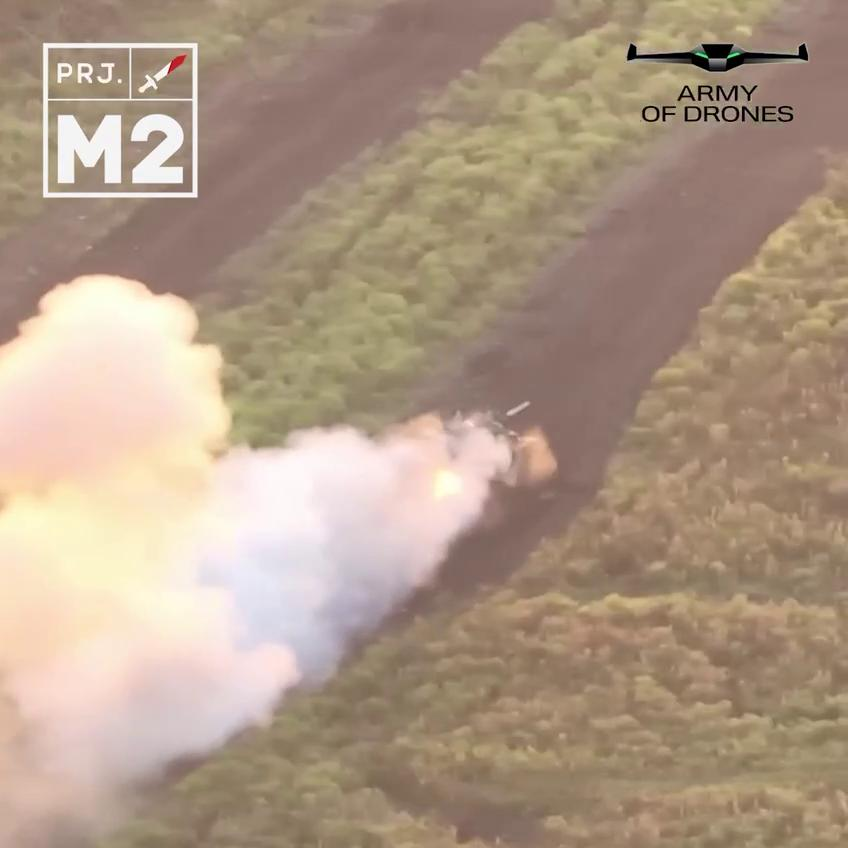tank: (411, 397, 553, 506)
